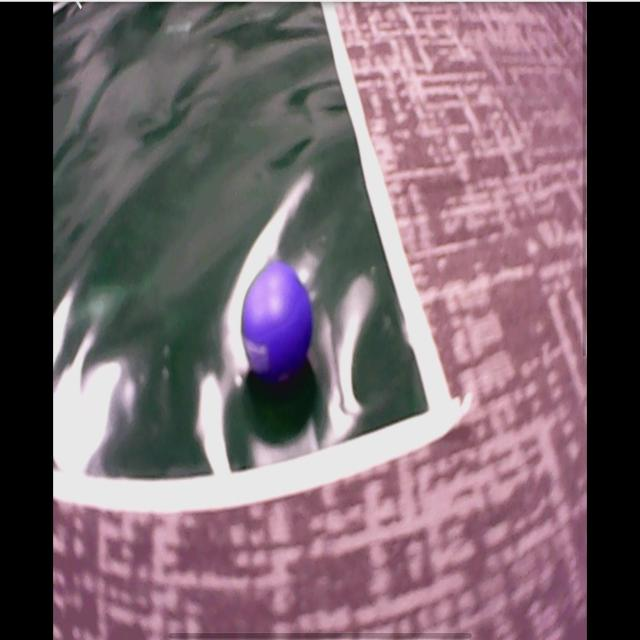ball: (243, 260, 317, 377)
